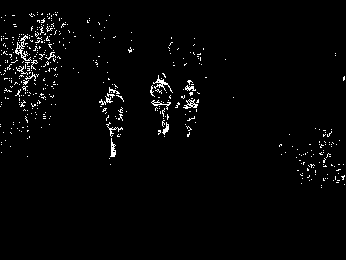person: (98, 82, 124, 160), (149, 71, 173, 139), (176, 79, 200, 138)
